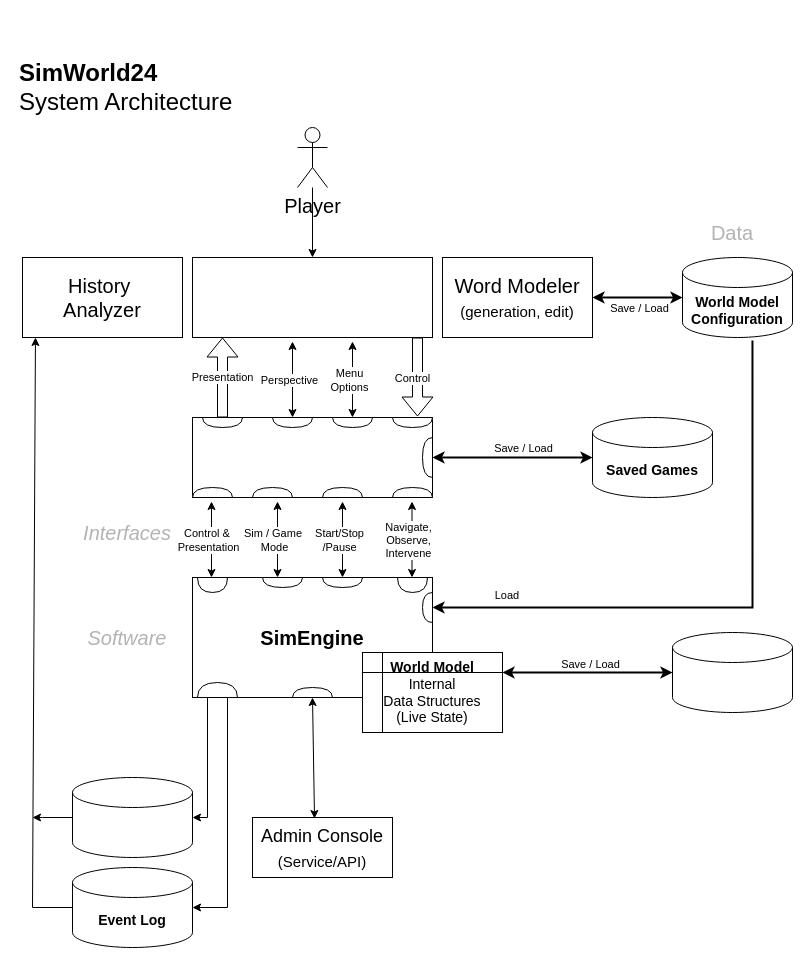
This 810x965 diagram has some shape labels left out. Each missing label, with the box of its shape:
Game App: (192, 416, 432, 498)
Game Play User Interface: (192, 256, 432, 338)
Persisted Simulation State: (672, 632, 792, 712)
State Change Log: (72, 776, 192, 858)
